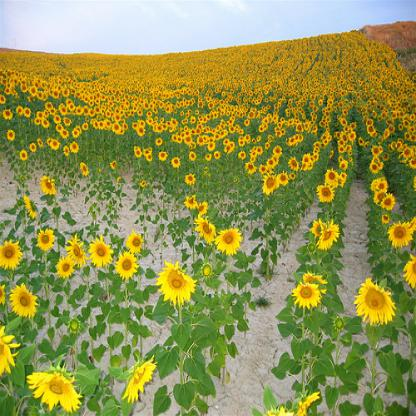SUN FLOWER: (14, 50, 406, 406)
